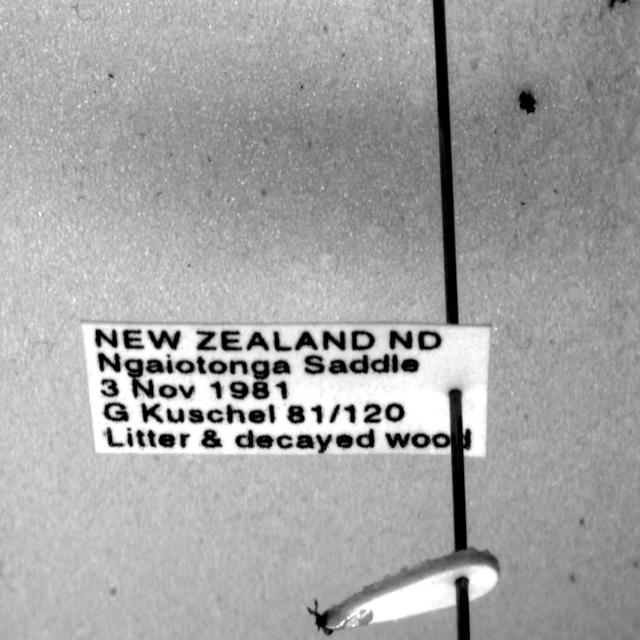typed_label: (82, 322, 490, 458)
